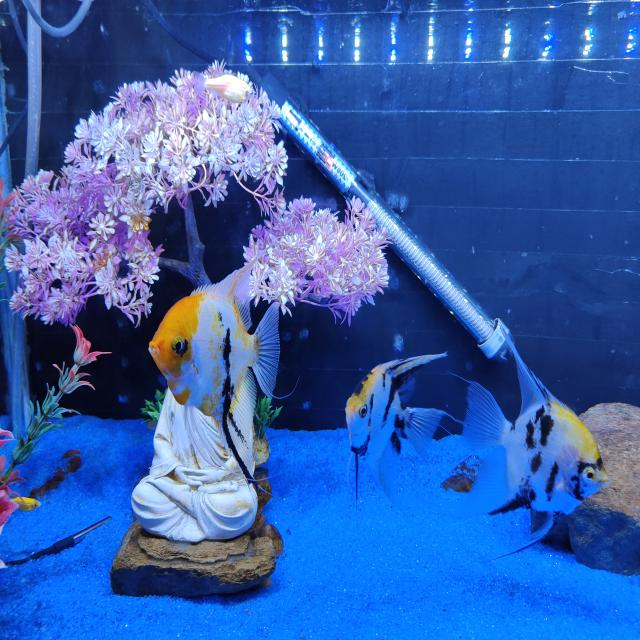Fish: (458, 339, 608, 546), (149, 265, 278, 482), (345, 353, 447, 502), (194, 74, 251, 103), (10, 497, 39, 511)
